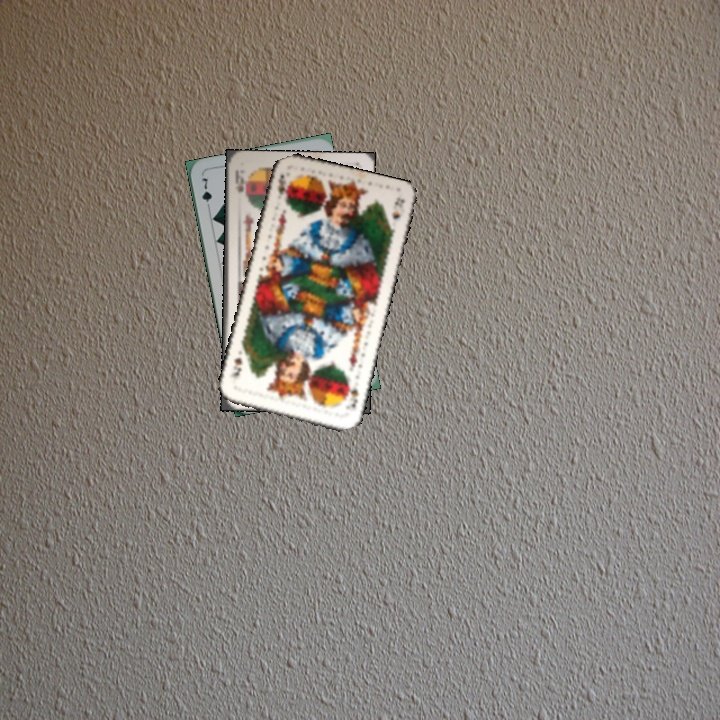G7: (197, 174, 214, 213)
SK: (342, 377, 362, 411), (231, 166, 249, 199), (273, 170, 291, 202)
